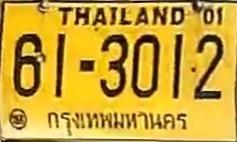0: (130, 34, 160, 98)
1: (171, 34, 182, 98), (54, 32, 64, 98), (55, 33, 65, 97)
2: (193, 33, 223, 100)
3: (99, 34, 128, 96)
6: (12, 33, 44, 97)
BKK: (42, 106, 192, 142)
